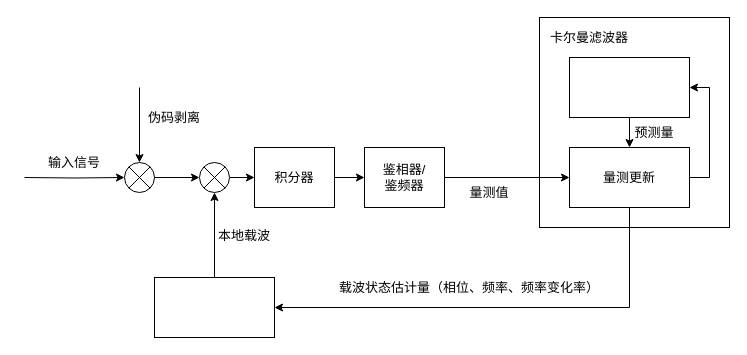
Some shapes in this 747 by 355 pixel diagram are drawn without their labels. Here are the shapes that lost their labels. From the top down, the centre of each, then its label:
At pixel 629 87: "预测".
At pixel 214 307: "NCO".
